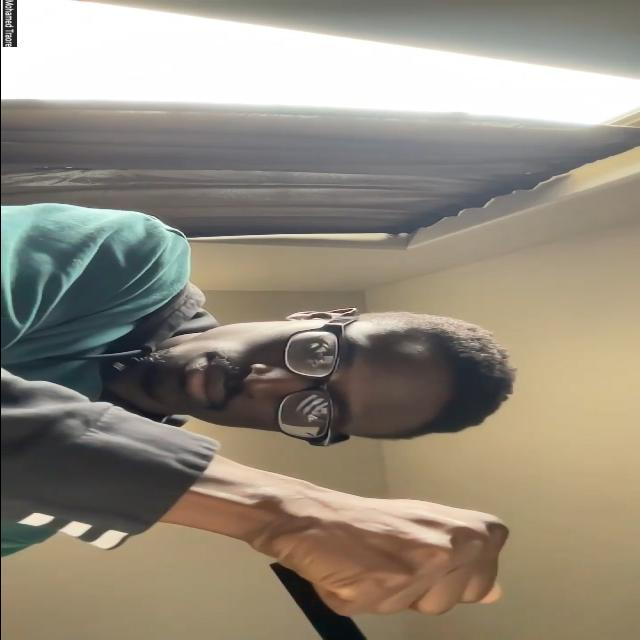Rock: (253, 496, 514, 616)
